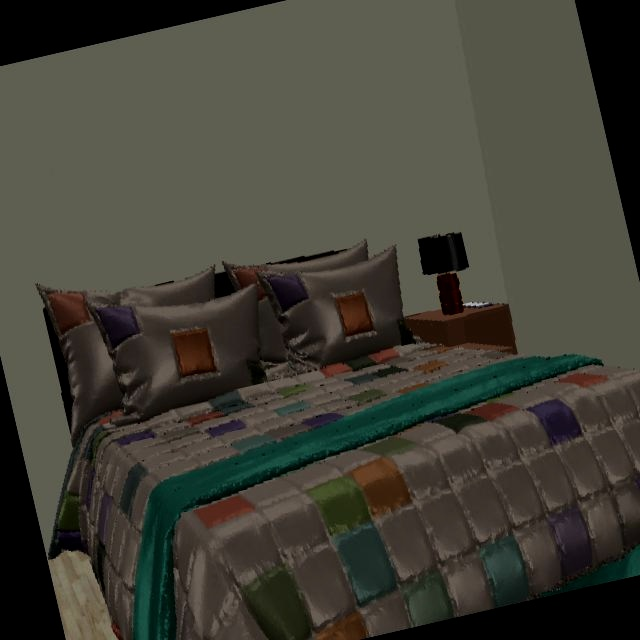bed: (51, 343, 640, 640)
book: (463, 301, 494, 308)
lamp: (417, 231, 470, 314)
nighttable: (406, 304, 516, 351)
pillow: (36, 271, 212, 445), (90, 283, 268, 418), (255, 245, 416, 368), (222, 238, 368, 292), (258, 298, 287, 362)
